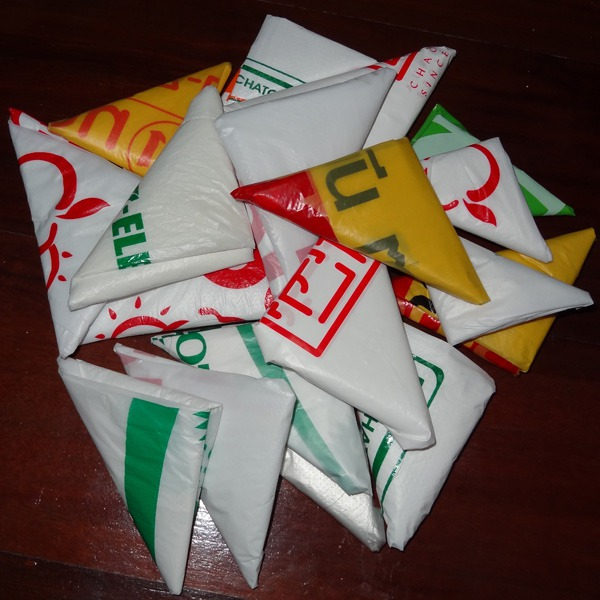plastic: (64, 63, 255, 335), (233, 134, 493, 315), (51, 337, 225, 598), (254, 218, 445, 455)
